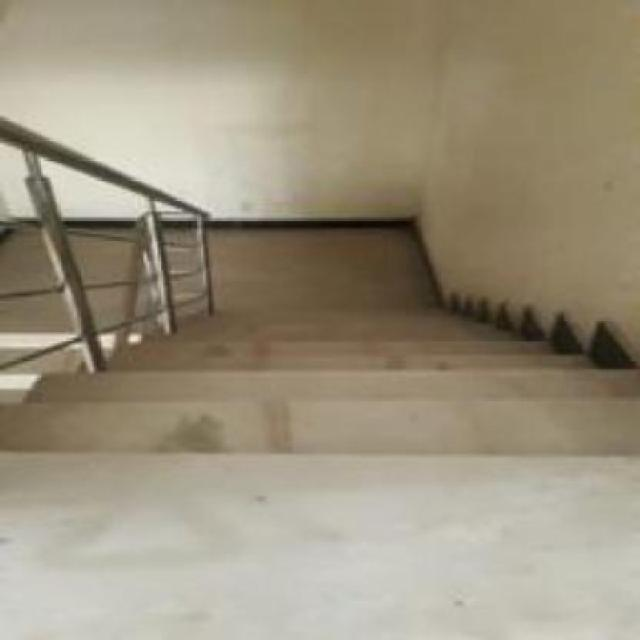stair: (17, 294, 640, 510)
